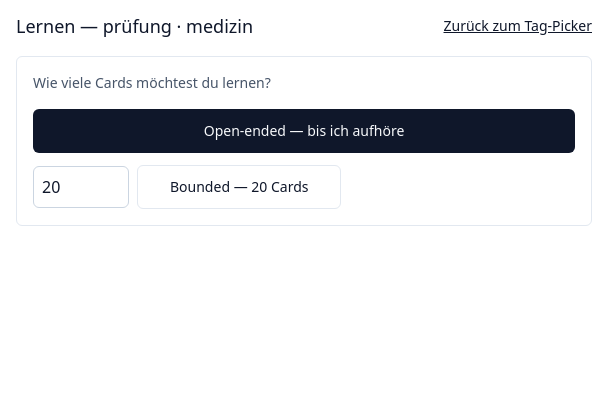
Test: TagSessionReviewPage › only enqueues due cards that carry all selected tags (deck-übergreifend, AND)
Step 1. Click the button "Open-ended — bis ich aufhöre" → (304, 131), box [33,109,575,153]
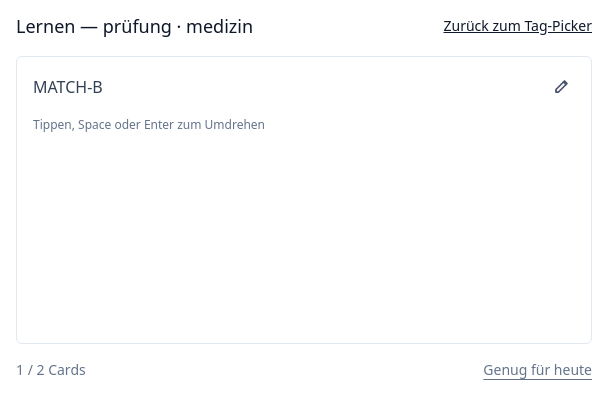
Expected: the button with aria-label "Vorderseite" is shown
Expected: the text "1 / 2 Cards" is shown, [16,360,86,380]
